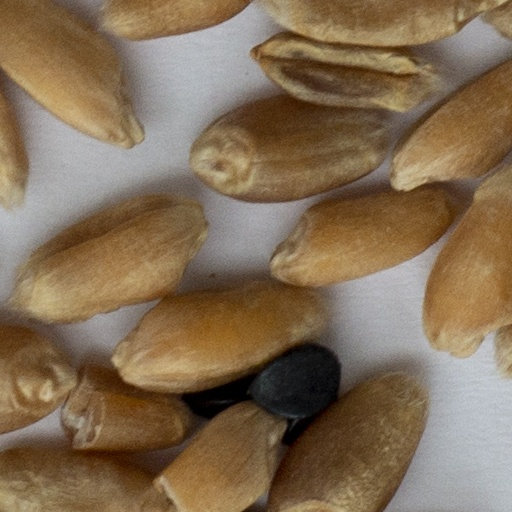Fallopia-Convolvulus-poly: (251, 346, 339, 416)
Wheat-grain-damaged-poly: (59, 368, 202, 449)
